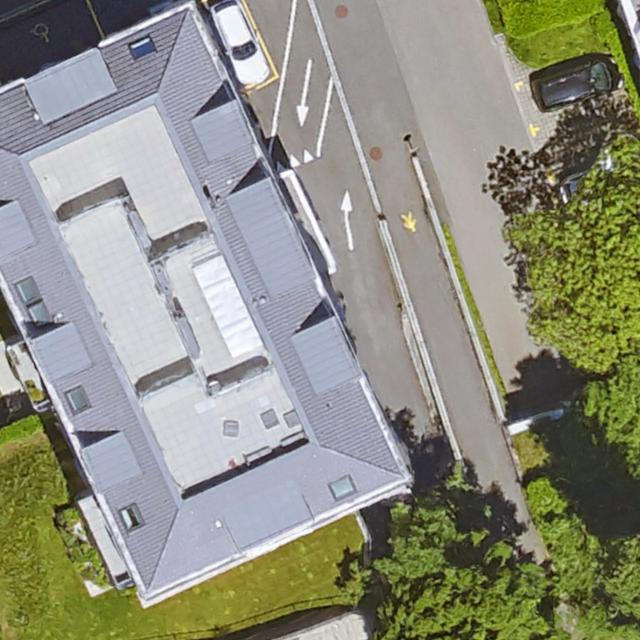tree: (512, 133, 640, 366), (375, 517, 546, 640), (565, 377, 640, 496), (602, 531, 640, 633)
